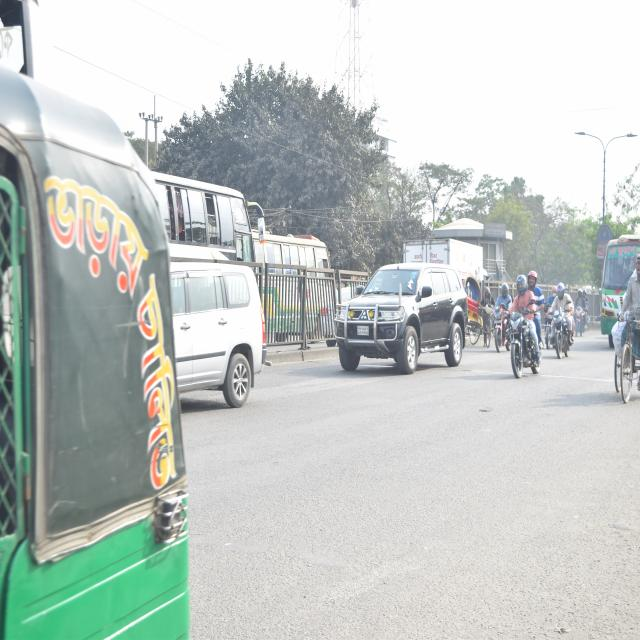bus: (597, 228, 640, 349)
car: (332, 256, 464, 380), (164, 257, 267, 408)
motorbike: (505, 298, 541, 384), (548, 296, 575, 356), (485, 293, 509, 348)
